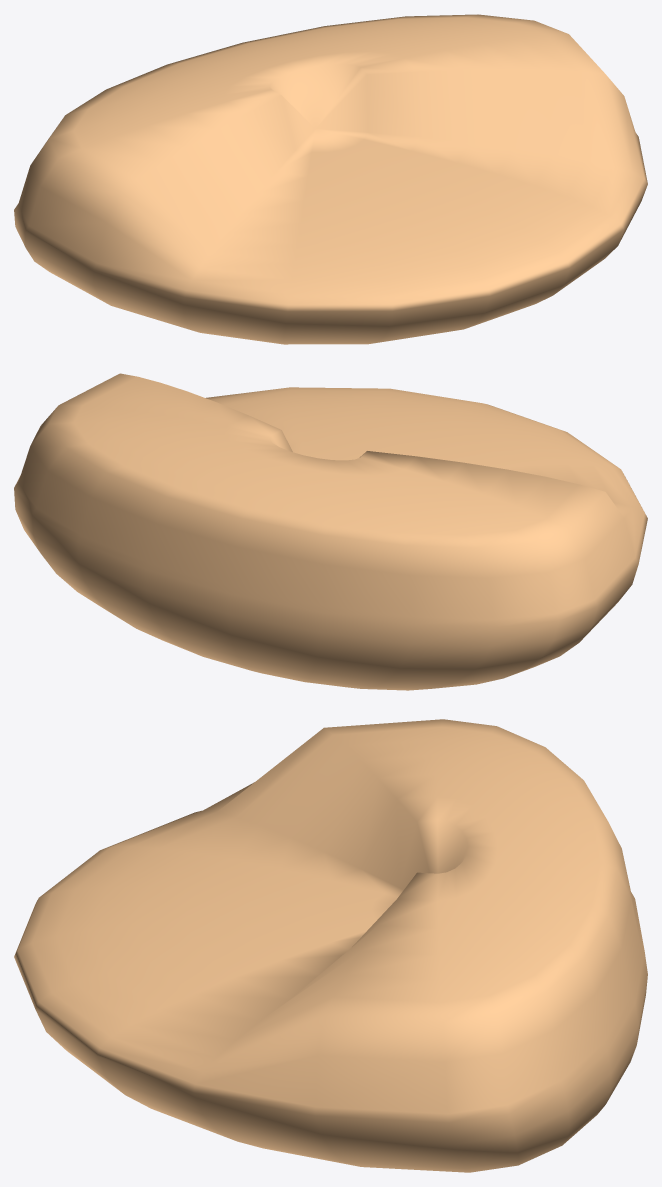
File: player_jaw.obj
3 views of the same model, one above another, from view 1: azimuth 30°, elevation 25°; view 2: azimuth 150°, elevation 25°; view 3: azimuth 270°, elevation 25° (orthographic). The views are drawn at different scales.
Visible parts, largest first — view 1: pSphere9 polySurface16; view 2: pSphere9 polySurface16; view 3: pSphere9 polySurface16.
Boxes of the visible parts, <box> form: pSphere9 polySurface16: <box>14,14,647,344</box>; pSphere9 polySurface16: <box>14,373,647,690</box>; pSphere9 polySurface16: <box>14,719,647,1172</box>.
Bounding box in the file's own units: 3.42 × 1.15 × 2.69.
